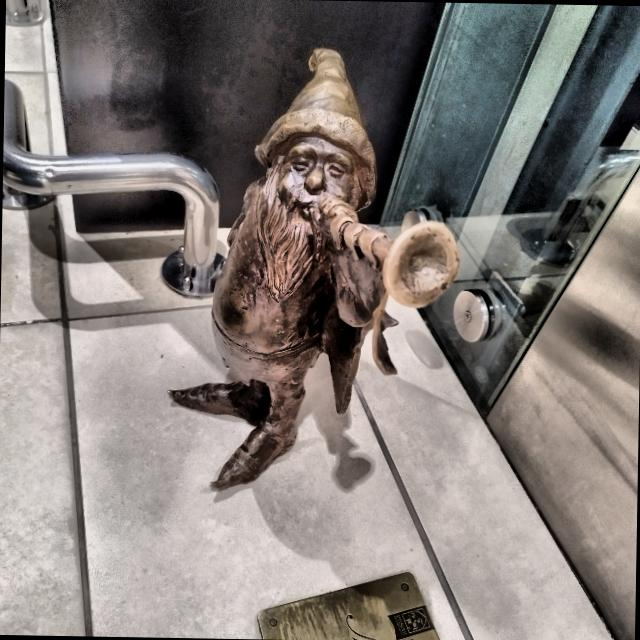Trabibrzuch: (170, 49, 459, 489)
